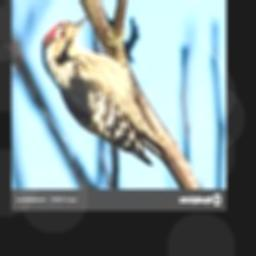Woodpecker: (41, 16, 167, 165)
